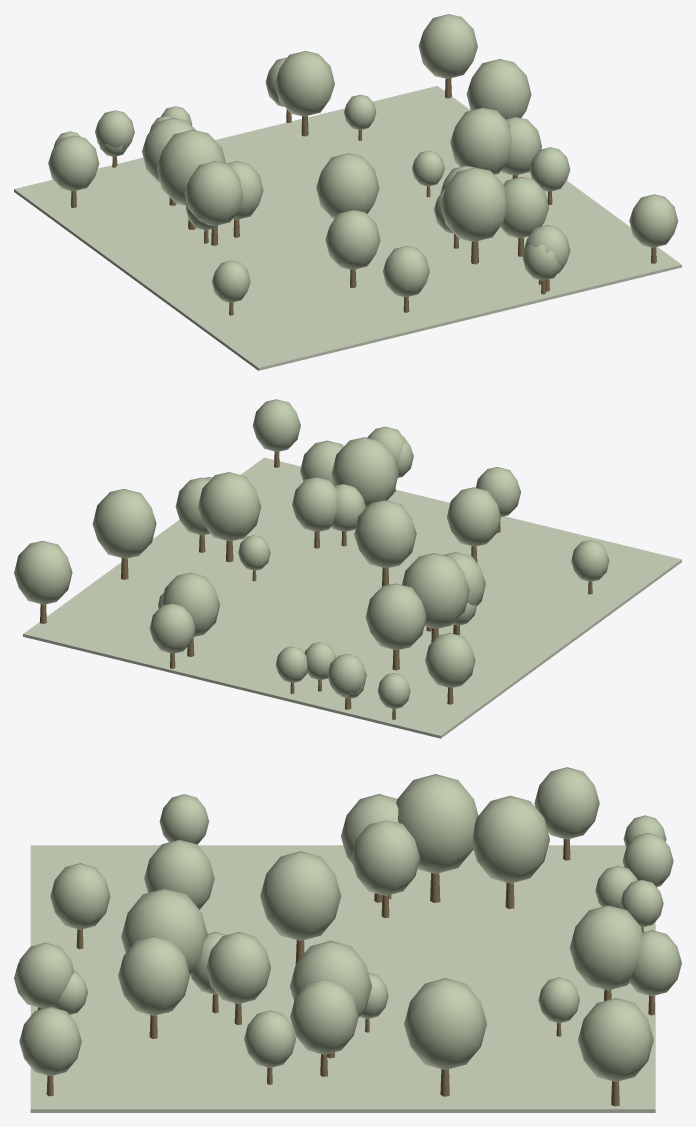
3 views of the same model, one above another, from view 1: azimuth 30°, elevation 25°; view 2: azimuth 150°, elevation 25°; view 3: azimuth 270°, elevation 25° (orthographic). The views are drawn at different scales.
Parts seen in each view (by area): view 1: terrain, lod-near-8, lod-near-12, lod-near-16, lod-near-31, lod-near-13, lod-near-25, lod-near-10, lod-near-3, lod-near-23, lod-near-21, lod-near-14 (+12 smaller); view 2: terrain, lod-near-3, lod-near-10, lod-near-12, lod-near-16, lod-near-8, lod-near-19, lod-near-13, lod-near-23, lod-near-31, lod-near-14, lod-near-28 (+14 smaller); view 3: terrain, lod-near-3, lod-near-10, lod-near-16, lod-near-19, lod-near-13, lod-near-31, lod-near-21, lod-near-8, lod-near-7, lod-near-22, lod-near-28 (+18 smaller).
Part boxes in pixels (x1,y1,x2,y2): terrain: [14, 86, 681, 370]; lod-near-8: [440, 167, 507, 241]; lod-near-12: [450, 107, 511, 174]; lod-near-16: [316, 153, 379, 219]; lod-near-31: [275, 51, 334, 116]; lod-near-13: [418, 14, 477, 78]; lod-near-25: [184, 161, 242, 226]; lod-near-10: [466, 59, 531, 119]; lod-near-3: [157, 129, 225, 205]; lod-near-23: [325, 210, 380, 269]; lod-near-21: [500, 177, 548, 238]; lod-near-14: [48, 135, 99, 191]; terrain: [23, 457, 681, 738]; lod-near-3: [402, 553, 469, 628]; lod-near-10: [92, 489, 156, 558]; lod-near-12: [198, 472, 261, 541]; lod-near-16: [354, 500, 416, 568]; lod-near-8: [331, 437, 398, 507]; lod-near-19: [365, 583, 426, 650]; lod-near-13: [14, 541, 72, 604]; lod-near-23: [447, 487, 501, 546]; lod-near-31: [161, 572, 220, 636]; lod-near-14: [425, 633, 475, 687]; lod-near-28: [292, 477, 337, 531]; terrain: [30, 845, 655, 1112]; lod-near-3: [396, 774, 478, 873]; lod-near-10: [404, 978, 486, 1069]; lod-near-16: [260, 851, 341, 940]; lod-near-19: [473, 795, 549, 883]; lod-near-13: [578, 998, 653, 1081]; lod-near-31: [569, 905, 642, 990]; lod-near-21: [118, 936, 189, 1015]; lod-near-8: [121, 888, 207, 974]; lod-near-7: [351, 820, 420, 895]; lod-near-22: [290, 979, 358, 1054]; lod-near-28: [206, 932, 271, 1004].
Bounding box in the file's own units: 33.58 × 7.29 × 34.2.
